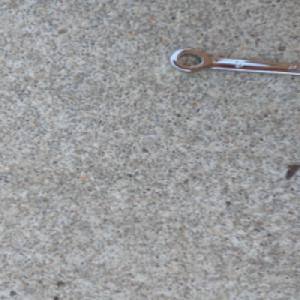Wrench: (166, 46, 300, 76)
